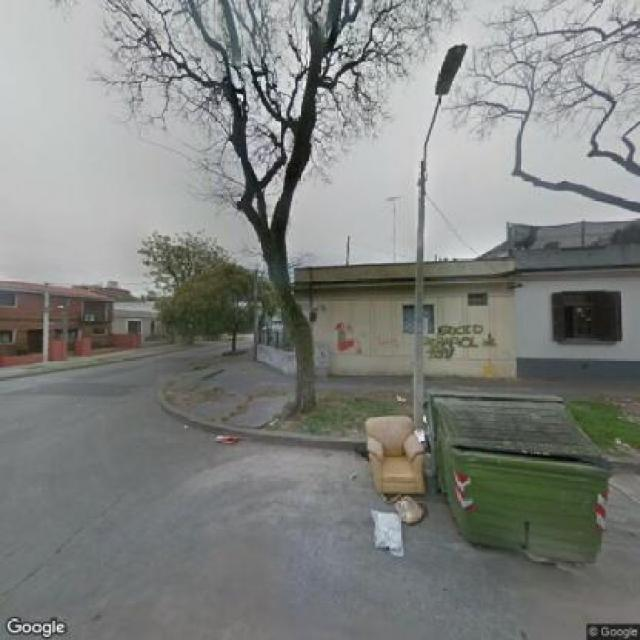garbage: (366, 414, 437, 574), (203, 423, 260, 448)
